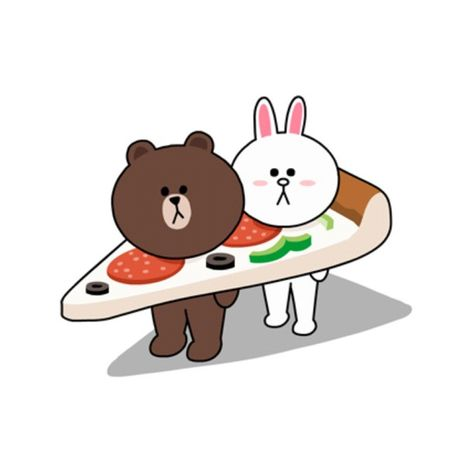line_brown: (102, 125, 250, 263)
